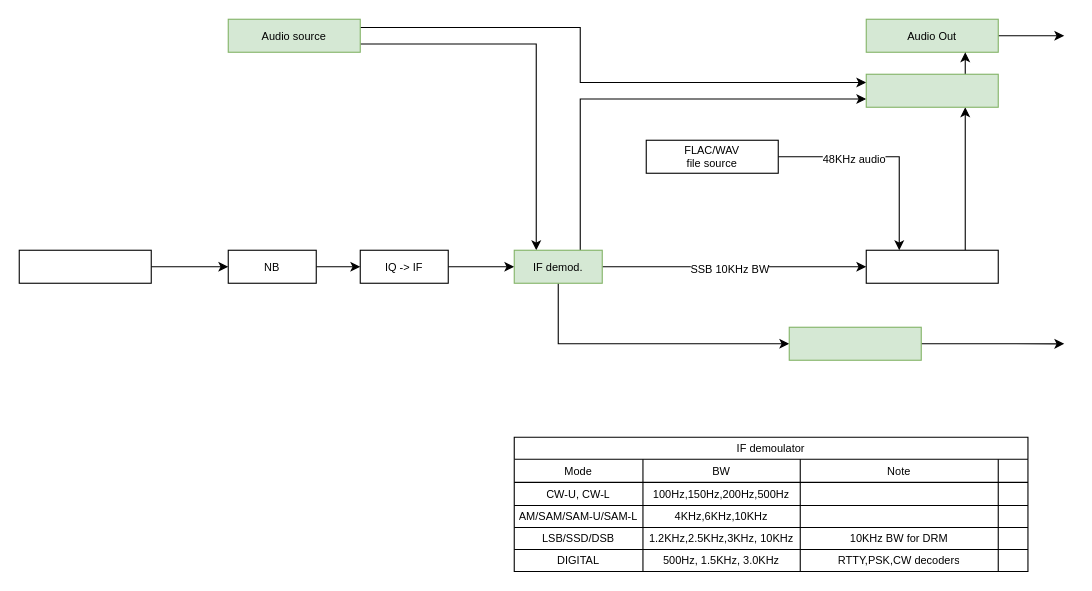
The diagram is 1092 pixels wide and 591 high, and some of its shapes have lost their labels. Each missing label, with the centre of its shape:
digital decode: (x=854, y=343)
DRM 'dream -f' for file source: (x=931, y=266)
DSP DNB DNR DNF APF: (x=931, y=90)
IQ source: (x=84, y=266)
